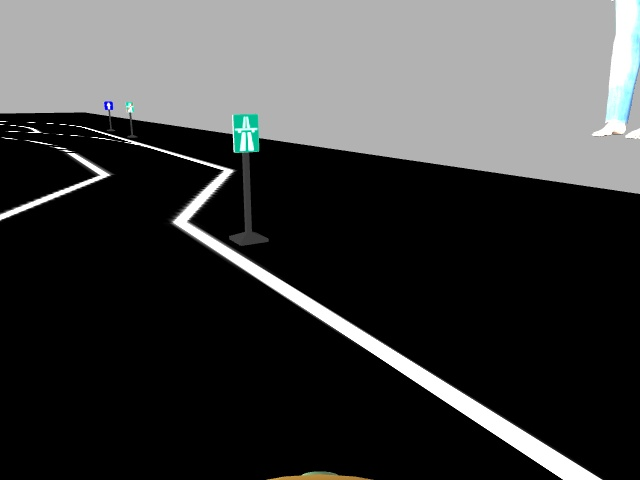HighwayEntrance: (231, 112, 259, 152)
